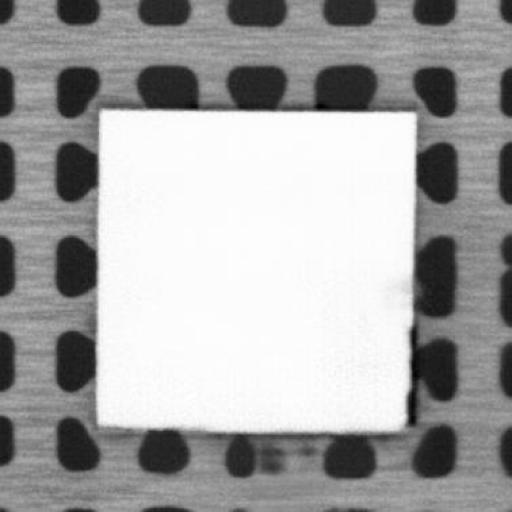DIE_BROKEN: (401, 322, 417, 428)
